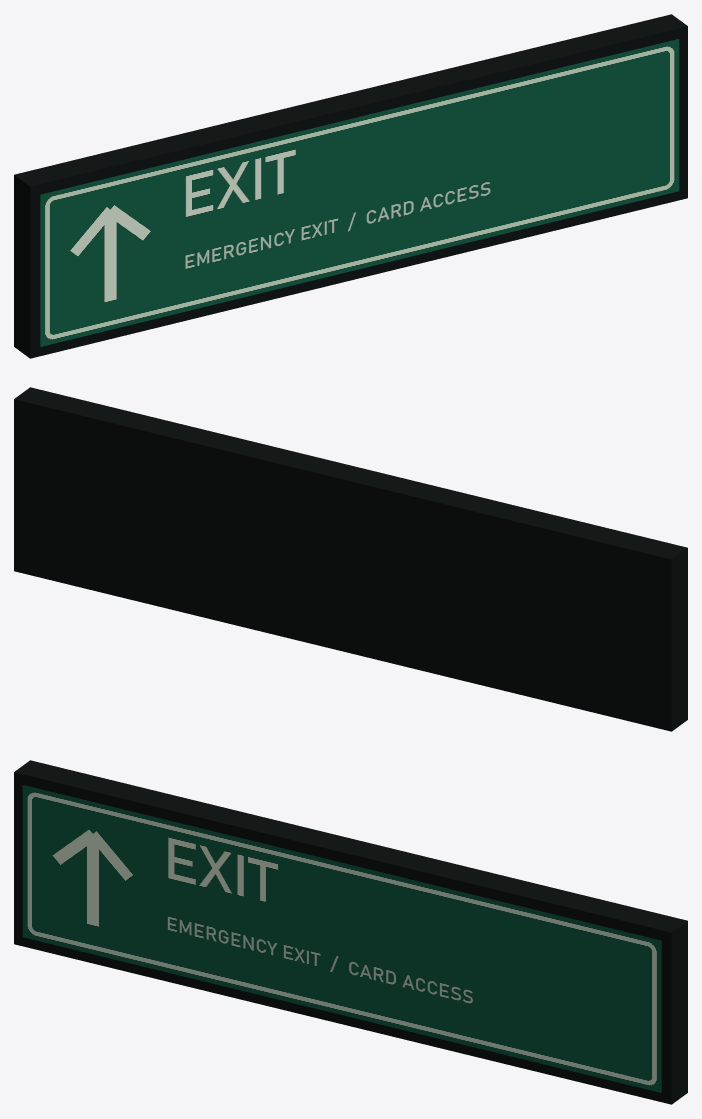
File: ExitSign.obj
3 views of the same model, one above another, from view 1: azimuth 30°, elevation 25°; view 2: azimuth 150°, elevation 25°; view 3: azimuth 330°, elevation 25° (orthographic).
Visible parts, largest first — view 1: ExitSign; view 2: ExitSign; view 3: ExitSign.
Part boxes in pixels (bbox=[...]): ExitSign: bbox=[14, 14, 687, 358]; ExitSign: bbox=[14, 387, 687, 731]; ExitSign: bbox=[14, 760, 687, 1104].
Size of the model in its own units: 2.8 by 0.7 by 0.125.
2 materials, 1 textured.
